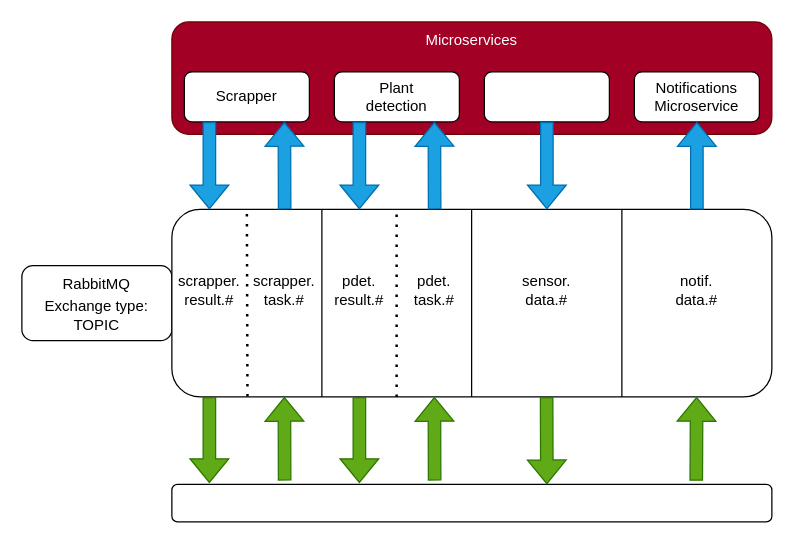
The diagram is 794 pixels wide and 544 high, and some of its shapes have lost their labels. Here are the shapes that lost their labels. From the top down, the centre of each, then its label:
At pixel 546 96: "Sensor data (GO)".
At pixel 471 502: "Monolith".
